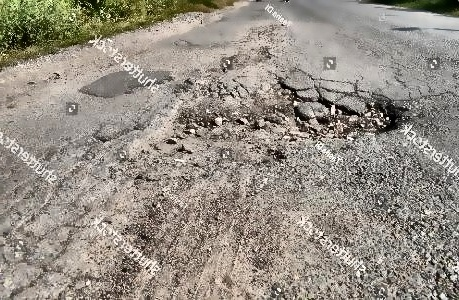pothole: (280, 76, 408, 140)
